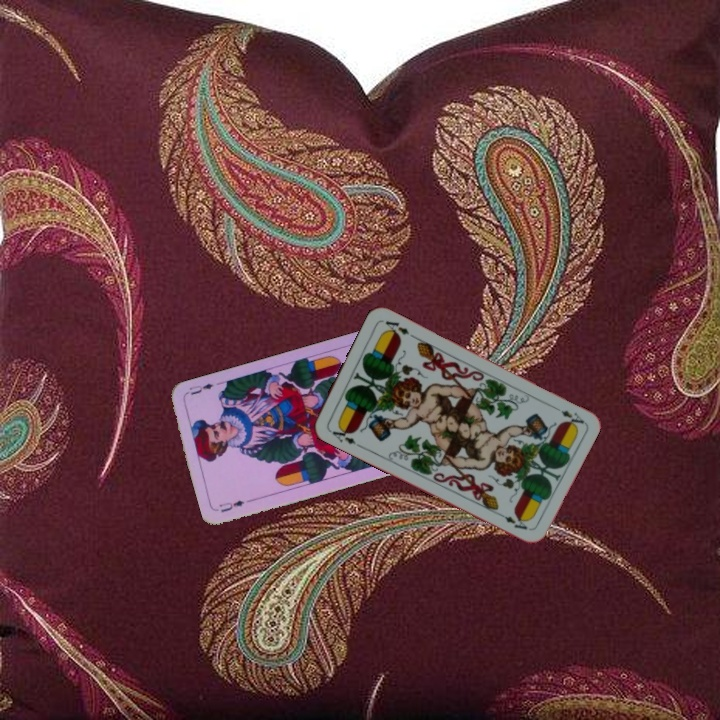EA: (549, 402, 587, 429), (328, 422, 363, 450)
EU: (215, 496, 247, 515)
